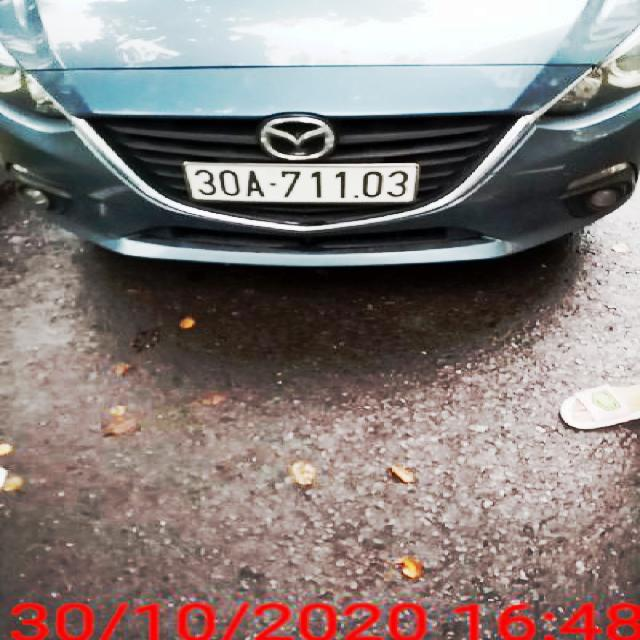license_plate: (191, 162, 415, 201)
